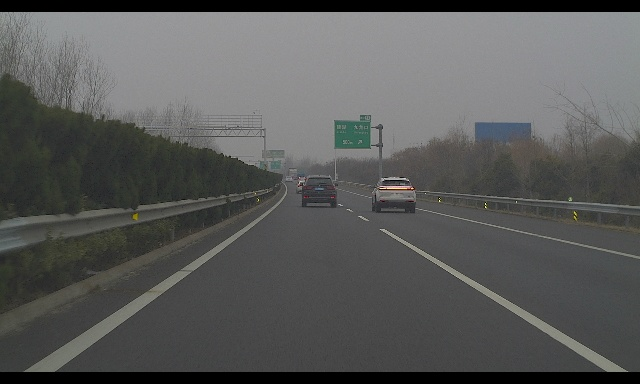car: (370, 177, 416, 213), (300, 175, 338, 207), (295, 180, 310, 194), (297, 176, 306, 184), (284, 176, 293, 183)
truck: (287, 168, 298, 180), (295, 171, 306, 180)
